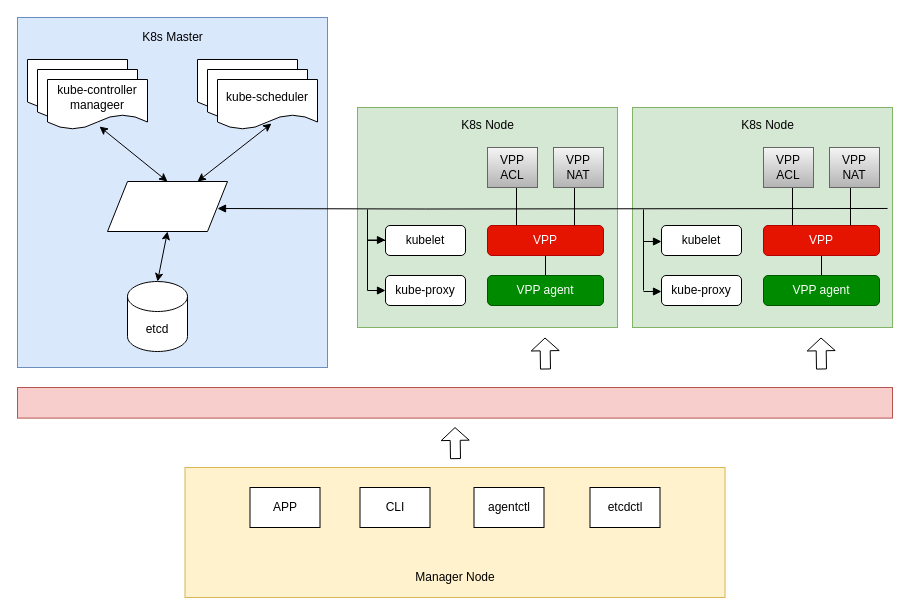
Some shapes in this 914 by 615 pixel diagram are drawn without their labels. Each missing label, with the centre of its shape:
kube-api-server: (167,206)
REST/gRPC API: (454,402)
